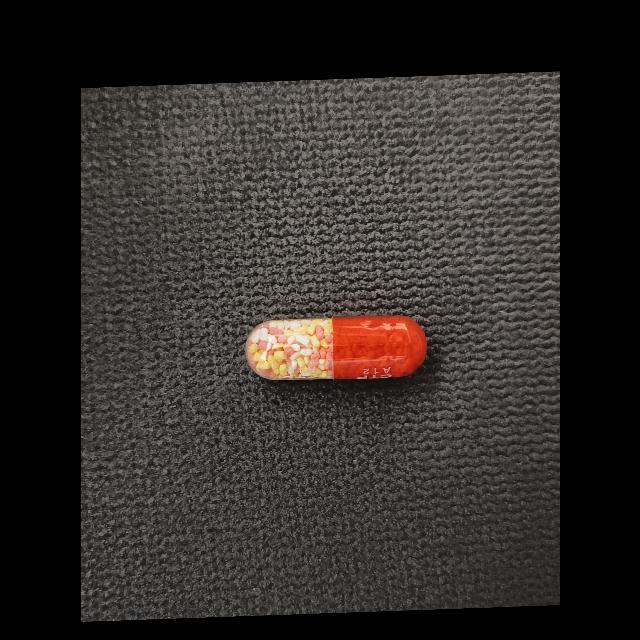Intact Capsule: (245, 315, 427, 380)
